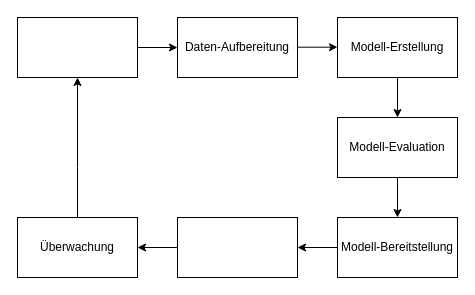
Some shapes in this 475 by 295 pixel diagram are drawn without their labels. The box of each missing label's shape, as (x1, y1, x2, y2) in pixels:
Administration: (176, 216, 298, 278)
Planung: (16, 16, 138, 78)
